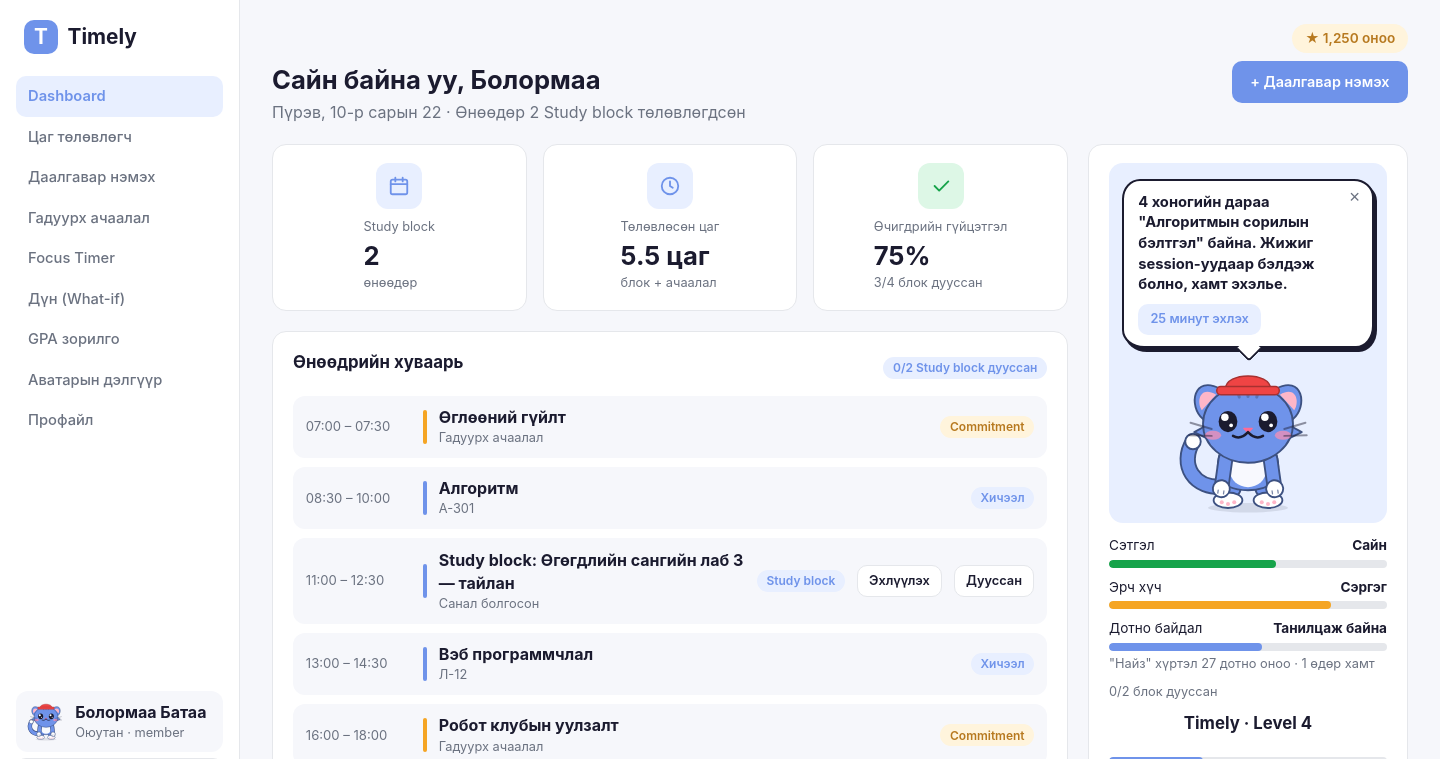
TML-DASH — Dashboard › S4: Study block-ийг дууссан гэж тэмдэглэж, буцааж болно
Expected: the text "0/2 Study block дууссан" is shown, [883,357,1047,379]
Click the button "Дууссан" in the row of "11:00" at (994, 581), box [954,565,1034,597]
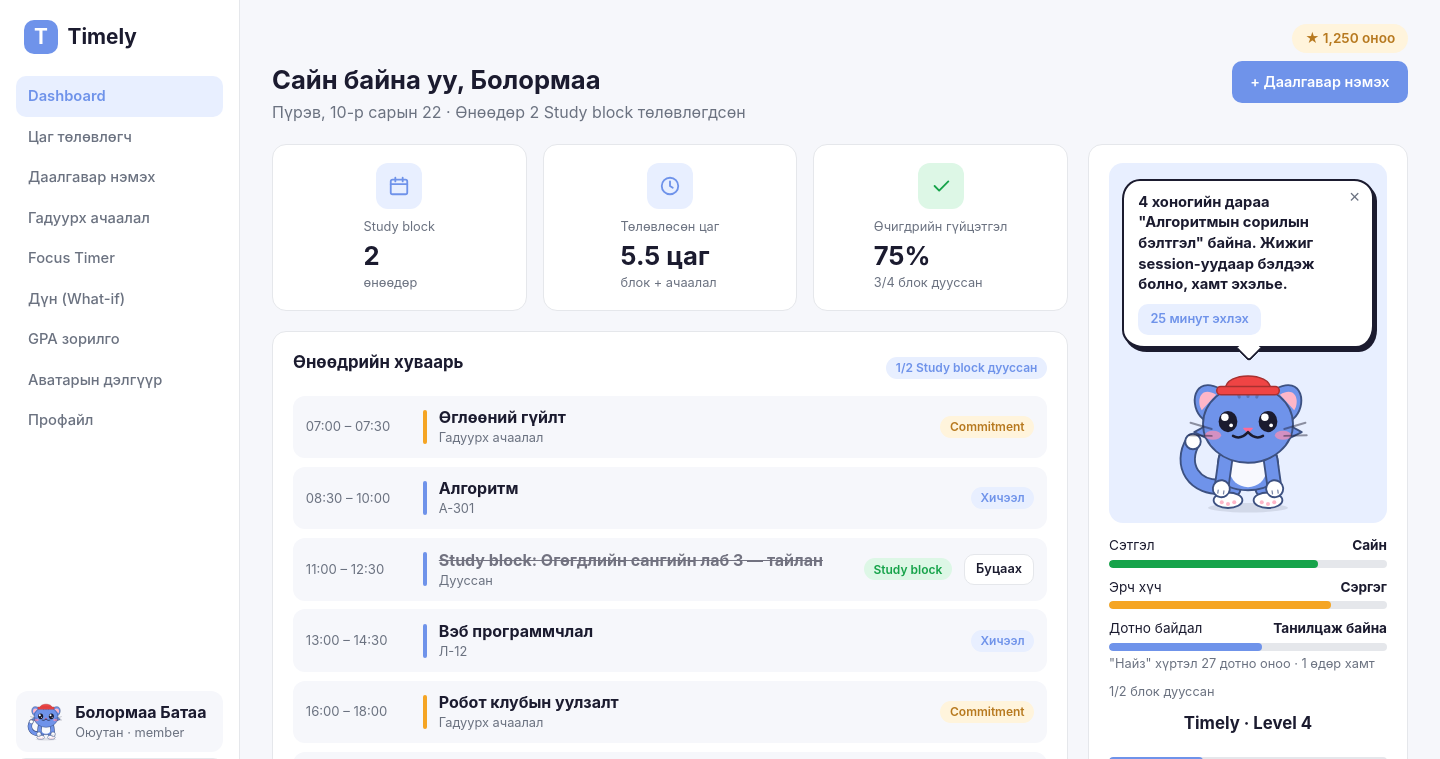
Expected: the text "1/2 Study block дууссан" is shown, [886,357,1047,379]
Click the button named "дуусаагүй болгох" at (999, 569), box [964,554,1034,585]
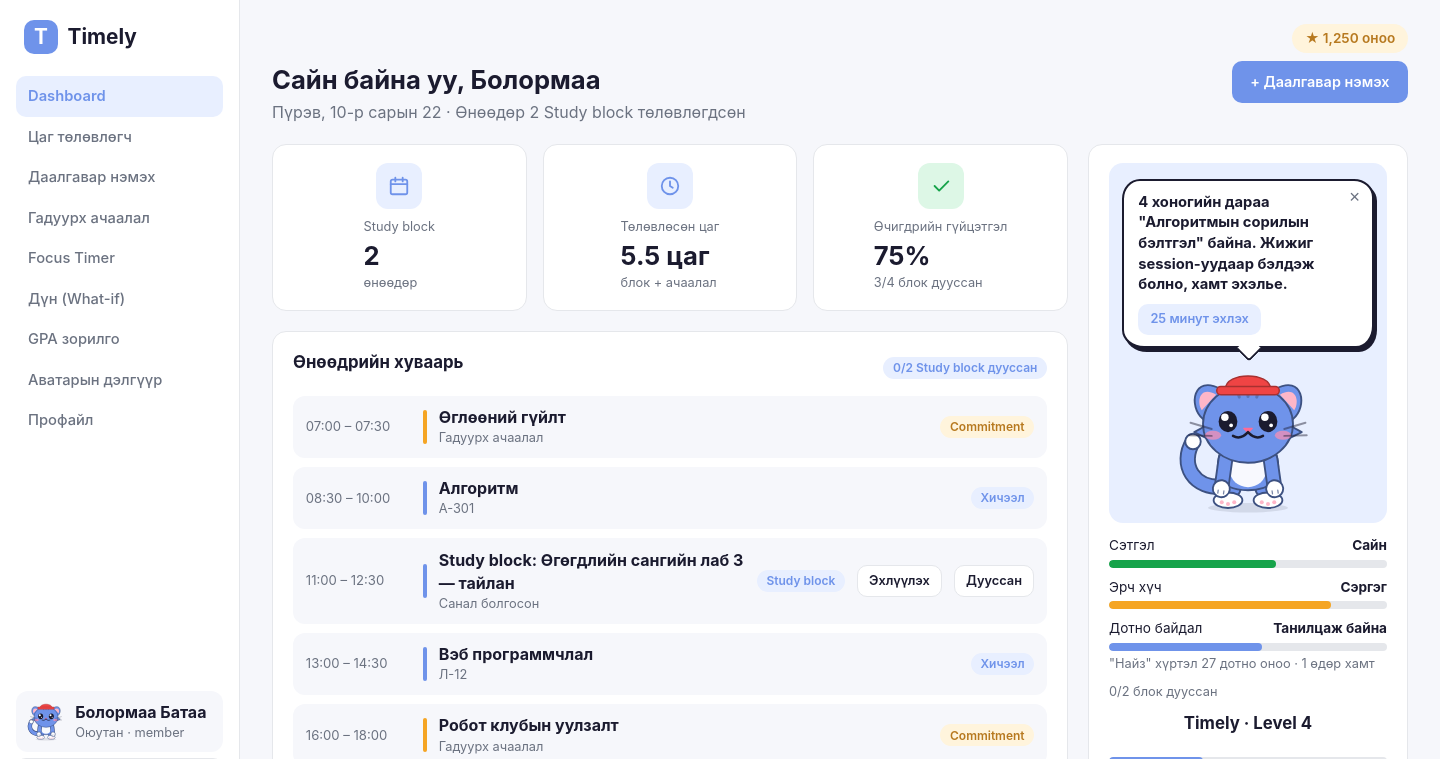
Expected: the text "0/2 Study block дууссан" is shown, [883,357,1047,379]
